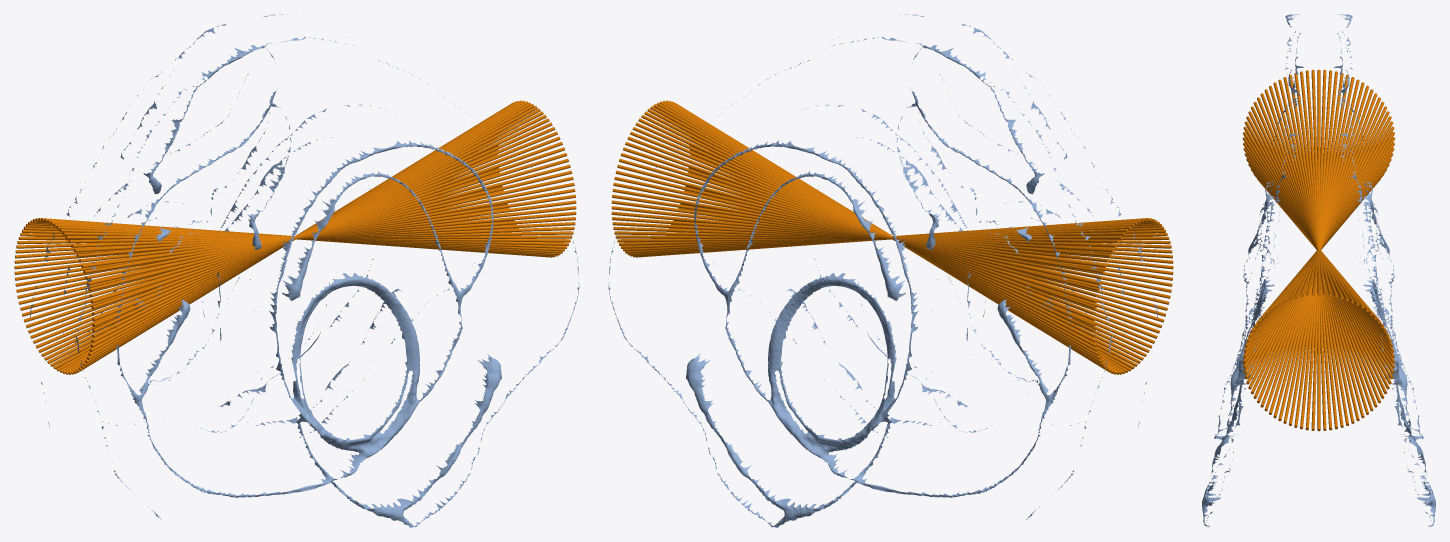
The model's file is A60023103_6150-37-520-3472_DigitalTwin.glb.
The picture shows the model from 3 angles, left to right: view 1: azimuth 30°, elevation 25°; view 2: azimuth 150°, elevation 25°; view 3: azimuth 270°, elevation 25°; orthographic projection. The views are drawn at different scales.
Parts seen in each view (by area): view 1: world; view 2: world; view 3: world.
Boxes of the visible parts, x1,y1,x2,y2 form: world: (14, 14, 579, 527); world: (608, 14, 1173, 527); world: (1202, 14, 1435, 527).
Size of the model in its own units: 682 by 642 by 301.
